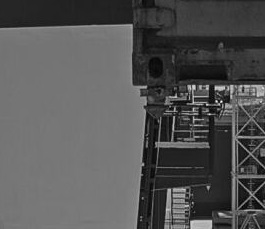Copy of Copy of Copy of twist_lock_2: (133, 81, 176, 124)
